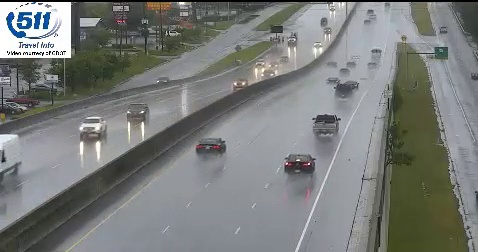car: (284, 154, 314, 174), (313, 114, 339, 135), (196, 138, 225, 156)
